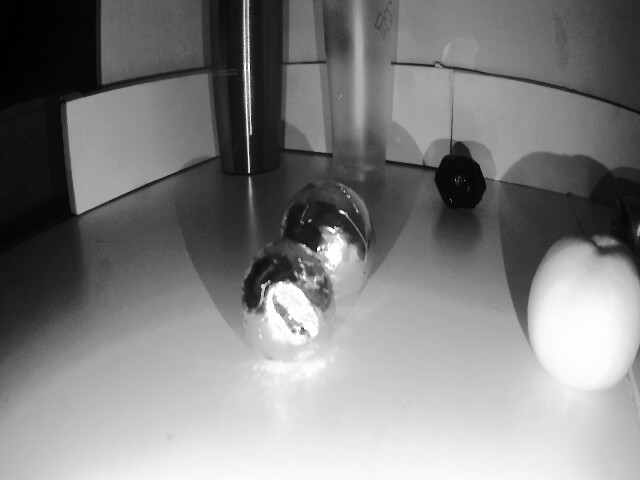black: (234, 237, 340, 346), (286, 183, 376, 299)
silver: (433, 152, 488, 212)
